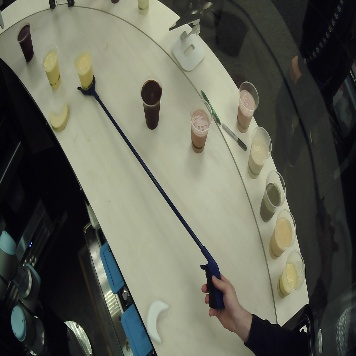full_cup: (258, 171, 287, 221), (266, 209, 295, 259), (276, 248, 305, 298), (235, 81, 260, 132), (247, 127, 272, 178), (190, 100, 213, 154), (141, 77, 161, 130), (40, 44, 62, 90), (75, 50, 96, 89), (17, 22, 34, 63), (137, 1, 149, 15)
puck: (148, 301, 171, 344), (50, 103, 71, 130)
